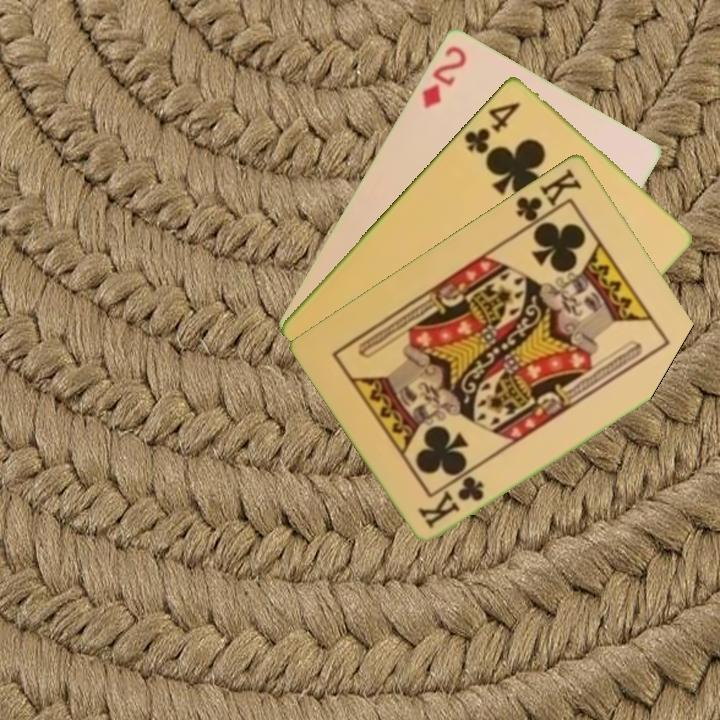2d: (418, 41, 469, 111)
4c: (460, 97, 524, 156)
Kc: (512, 164, 585, 232), (415, 472, 487, 531)
